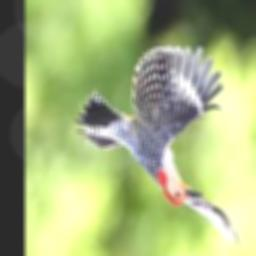Woodpecker: (76, 46, 239, 249)
